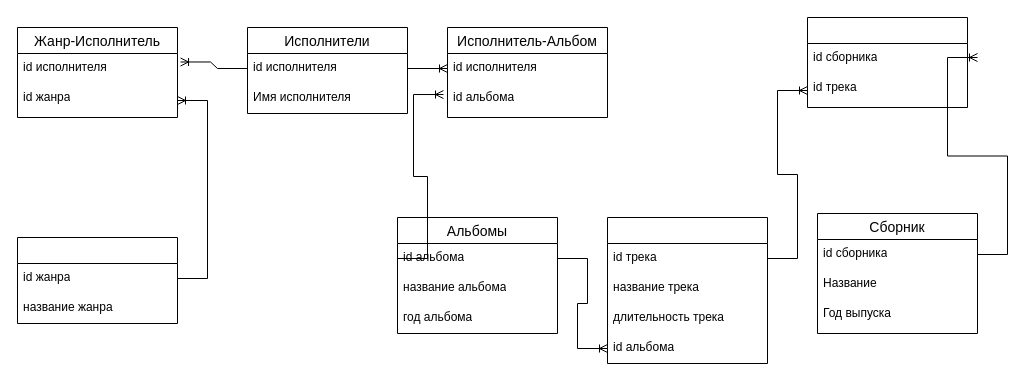
Image size: 1033x384. Some labels were removed from this diagram. The box of each missing label's shape, as (x1, y1, x2, y2) in pixels:
Жанры: (16, 236, 178, 324)
Сборник-трек: (806, 16, 968, 108)
Треки: (606, 216, 768, 364)
